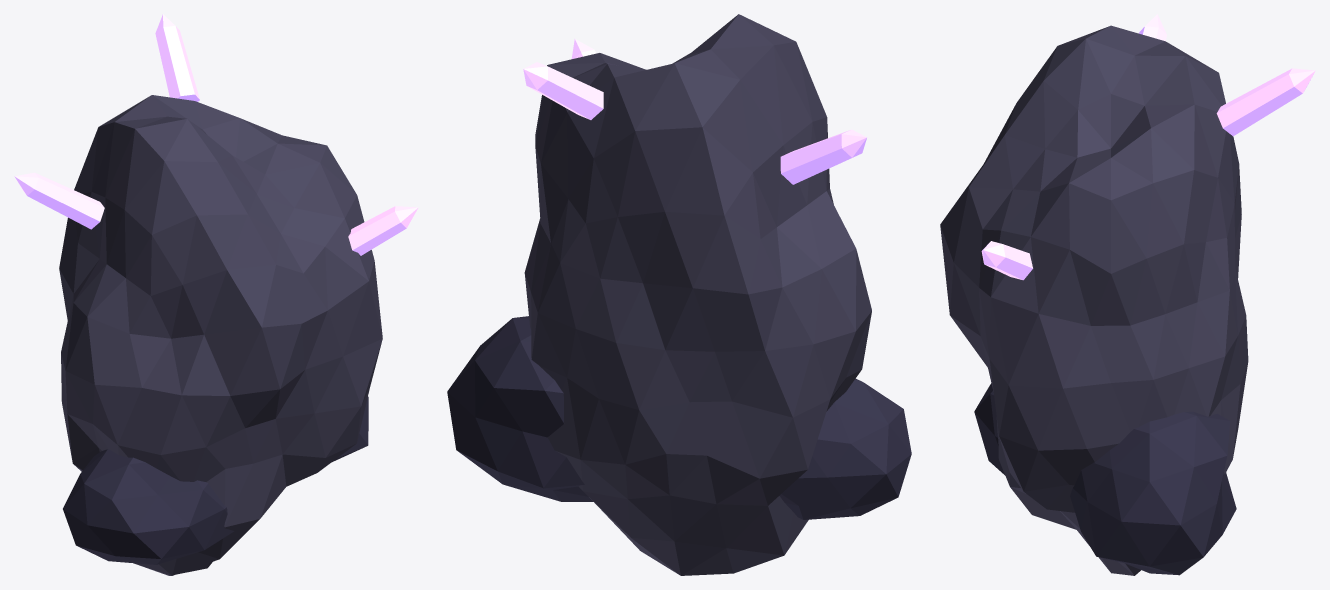
File: cave_rock.glb
The picture shows the model from 3 angles, left to right: view 1: azimuth 30°, elevation 25°; view 2: azimuth 150°, elevation 25°; view 3: azimuth 270°, elevation 25°; orthographic projection. The views are drawn at different scales.
Parts seen in each view (by area): view 1: CaveRock; view 2: CaveRock; view 3: CaveRock.
Boxes of the visible parts, x1,y1,x2,y2 form: CaveRock: [14, 14, 418, 575]; CaveRock: [447, 14, 911, 575]; CaveRock: [940, 14, 1315, 575].
Bounding box in the file's own units: 3.44 × 4.53 × 2.92.
